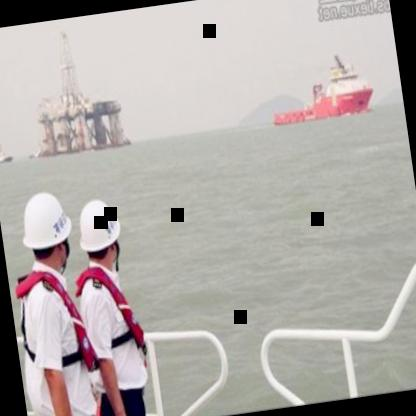helmet: (14, 184, 81, 280), (70, 192, 129, 277)
